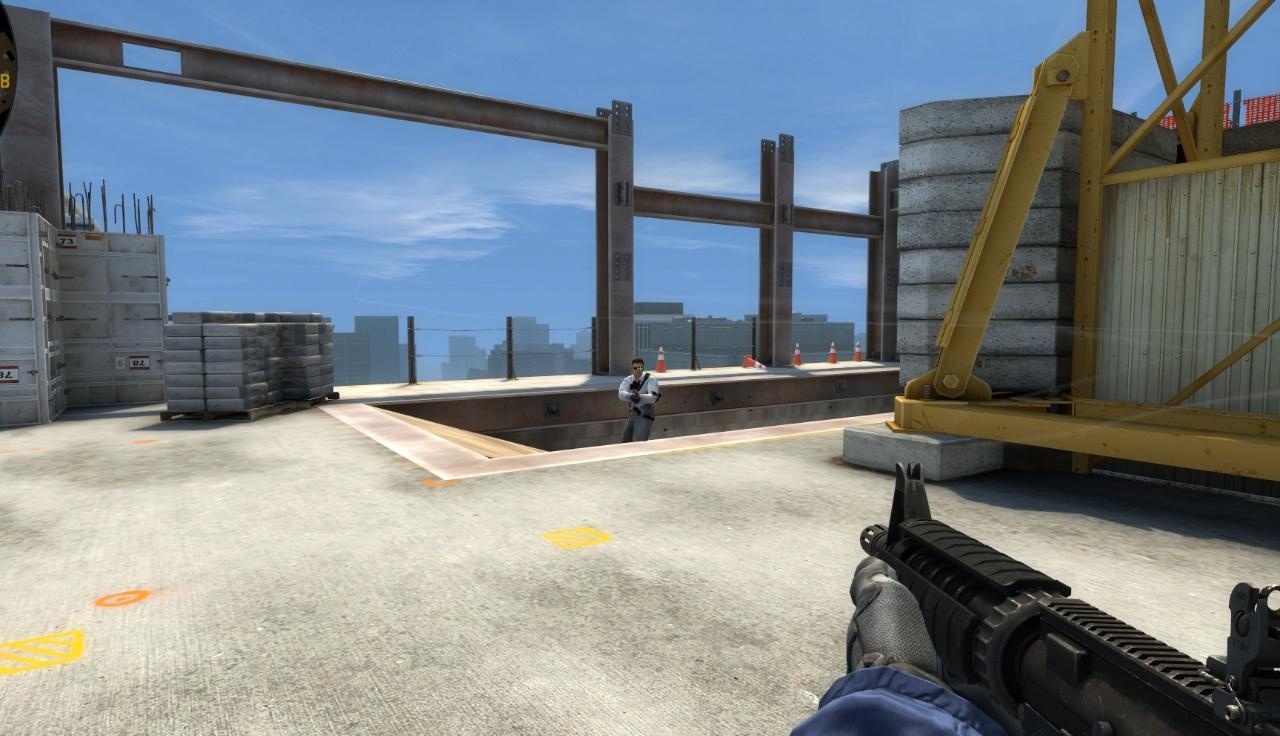rifle: (860, 458, 1280, 736)
tt: (622, 358, 656, 441)
tthead: (631, 359, 643, 378)
